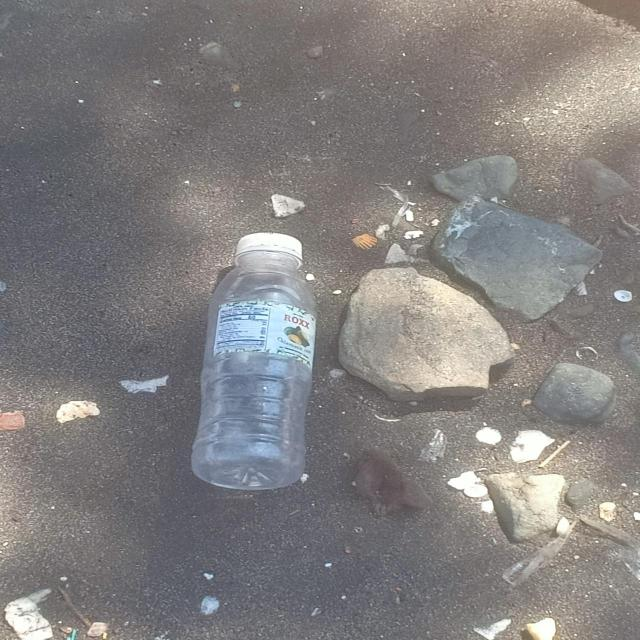plastic_waste: (192, 232, 318, 492)
